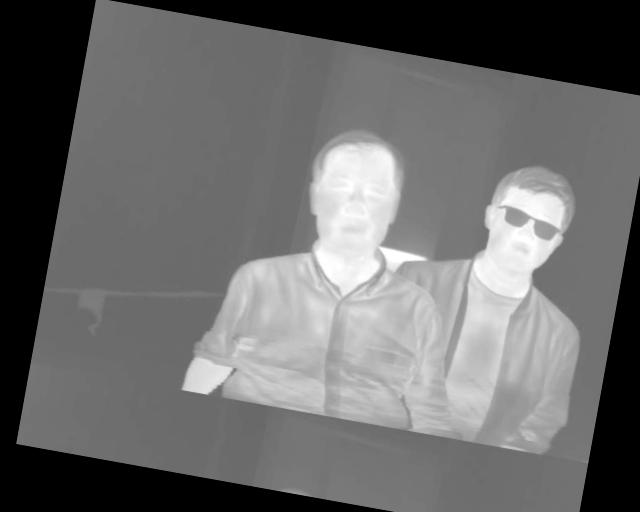face: (295, 120, 413, 267), (474, 156, 581, 281)
